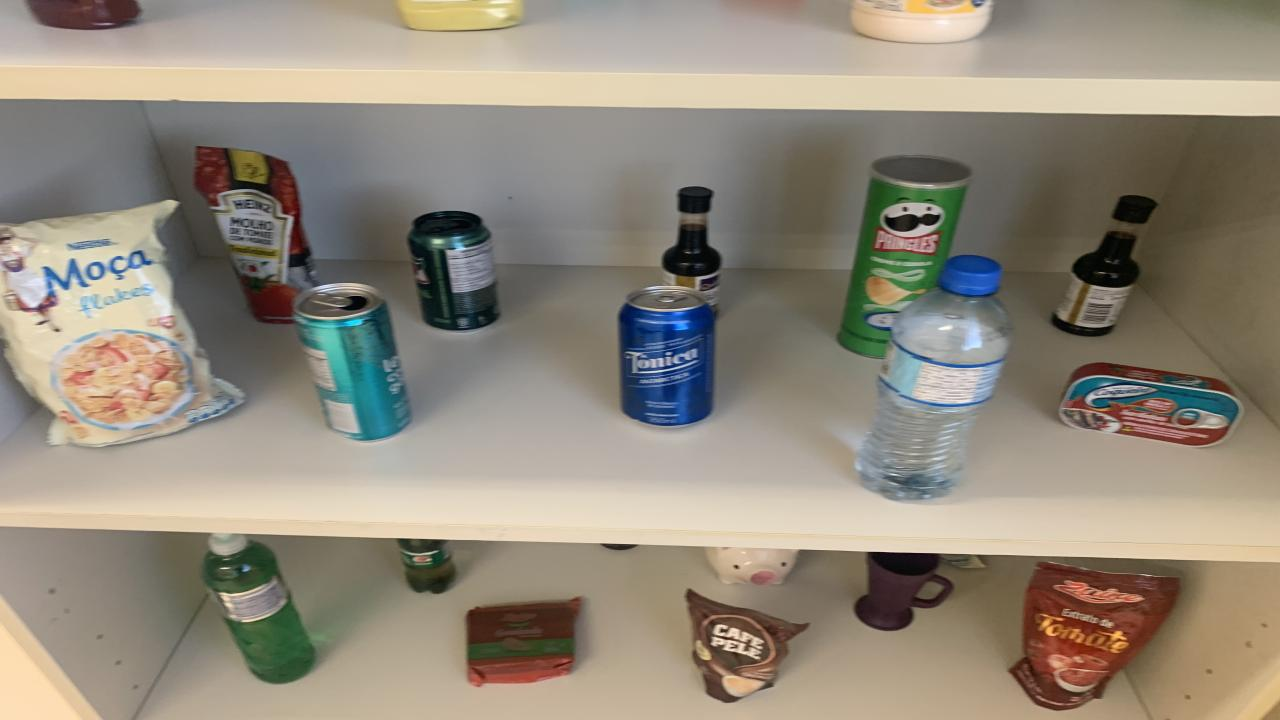Coffee-Pantry_Items: (685, 589, 808, 703)
Detergent-Cleanup_Items: (202, 532, 315, 682)
English_Sauce-Pantry_Items: (1052, 195, 1155, 336), (662, 188, 722, 311), (600, 544, 635, 551)
Flakes-Snacks: (0, 201, 245, 446), (940, 553, 985, 568)
Guarana-Drinks: (398, 538, 455, 592)
Guarana_Can-Drinks: (408, 210, 500, 330)
Guava-Snacks: (468, 598, 580, 686)
Ketchup-Pantry_Items: (25, 0, 140, 30)
Mayonnaise-Pantry_Items: (850, 0, 992, 43)
Mustard-Pantry_Items: (395, 0, 522, 30)
Pig_Safe-Miscellaneous: (705, 548, 798, 585)
Pringles-Snacks: (838, 156, 970, 358)
Tea-Drinks: (292, 283, 412, 441)
Tomato_Sauce-Pantry_Items: (1010, 562, 1180, 711), (195, 146, 315, 322)
Tonic-Drinks: (618, 285, 715, 428)
Tuna_Can-Pantry_Items: (1060, 364, 1242, 446)
Water_Bottle-Drinks: (855, 255, 1012, 501)
